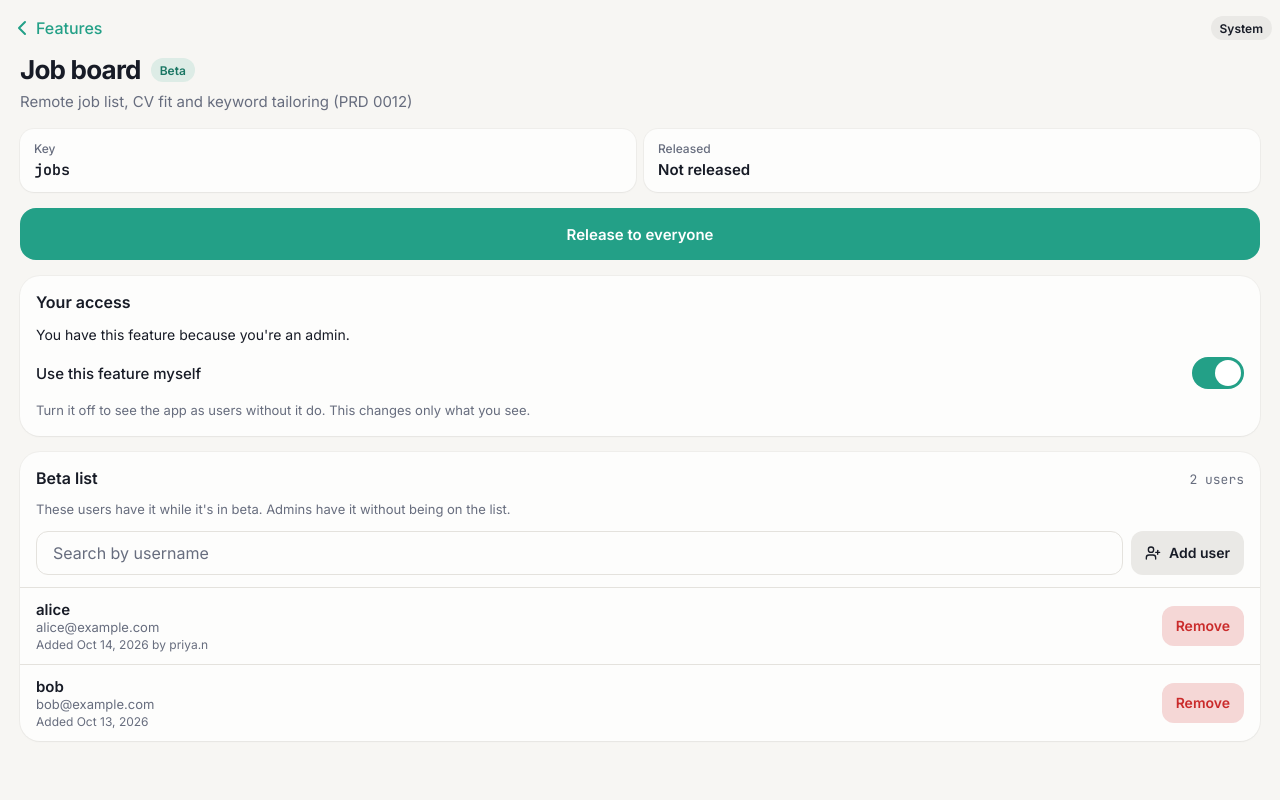
Test case: a feature's page below md › shows an add the server refused inside the sheet
This screenshot has width=1280, height=800.
Check: the text "alice" is shown, box [36,600,70,619]
Click the button "Add user". click: {"x": 1187, "y": 553}
box: [1131,531,1244,575]
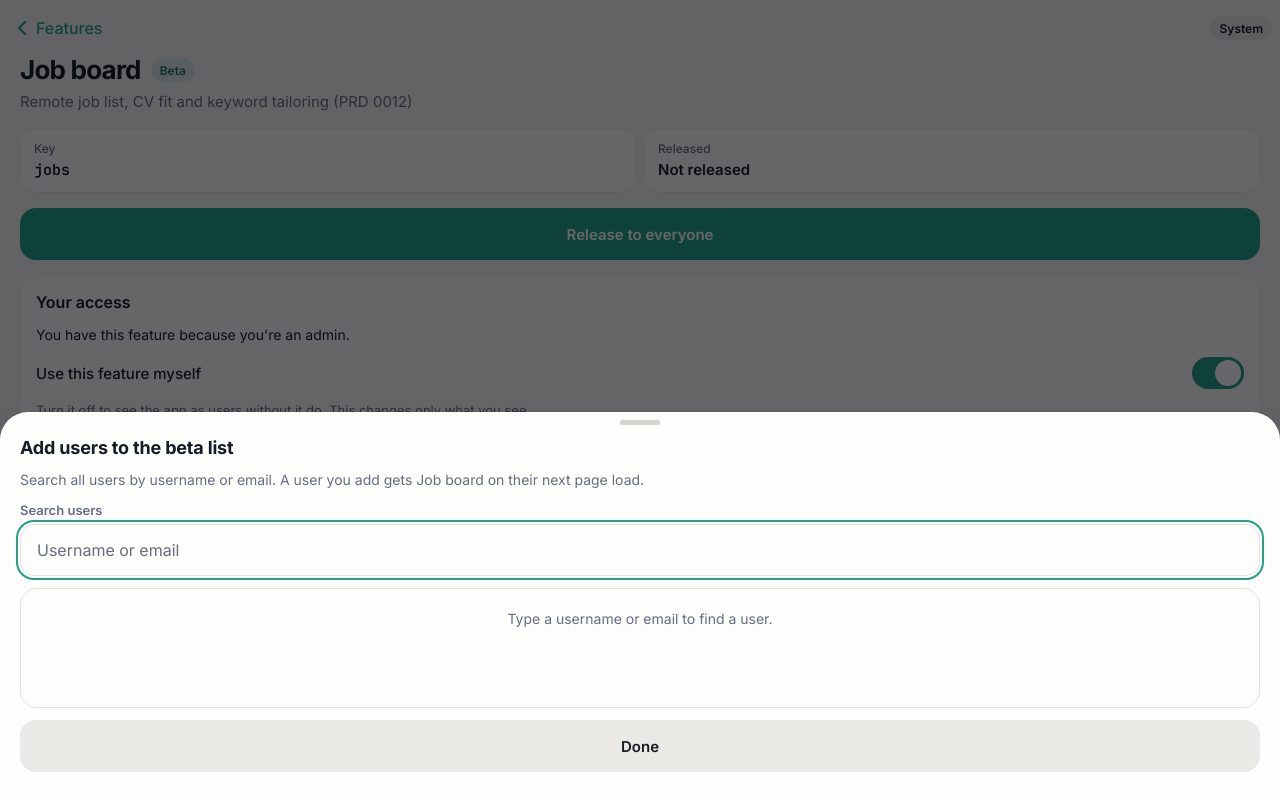
Type "dk" into the search field. click: {"x": 640, "y": 550}
box: [20,524,1260,576]
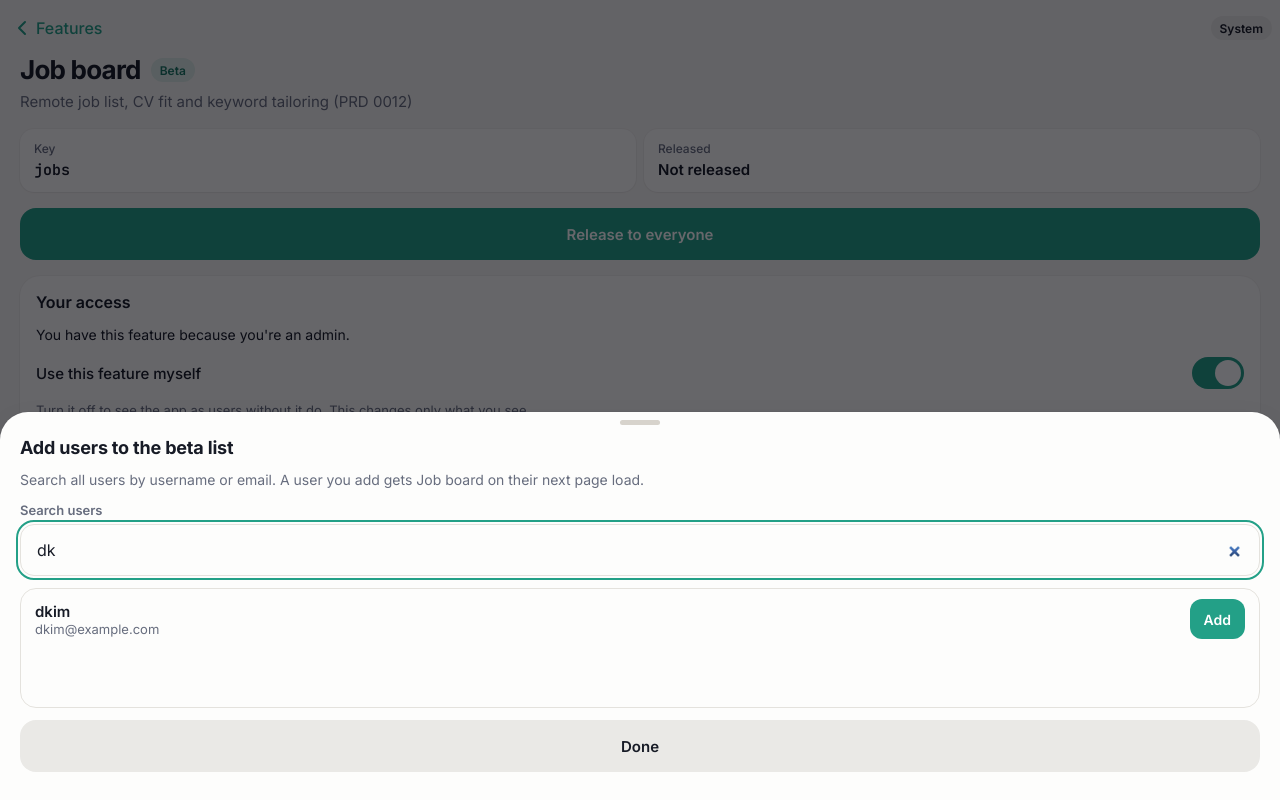
Click the button with aria-label "Add dkim". click: {"x": 1217, "y": 619}
box: [1190,597,1245,641]
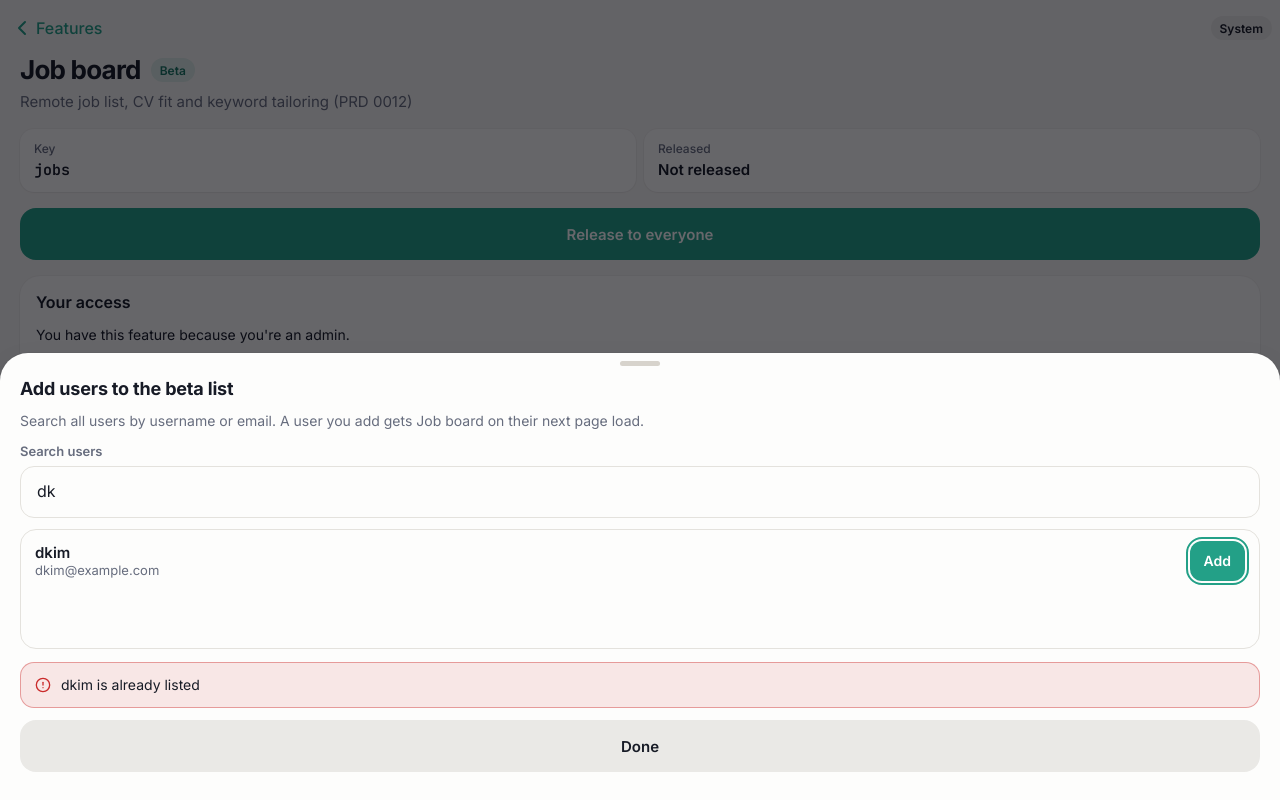
Check: the button with aria-label "Add dkim" is shown, box [1190,539,1245,583]
Check: the message reads "dkim is already listed", box [61,676,200,693]
